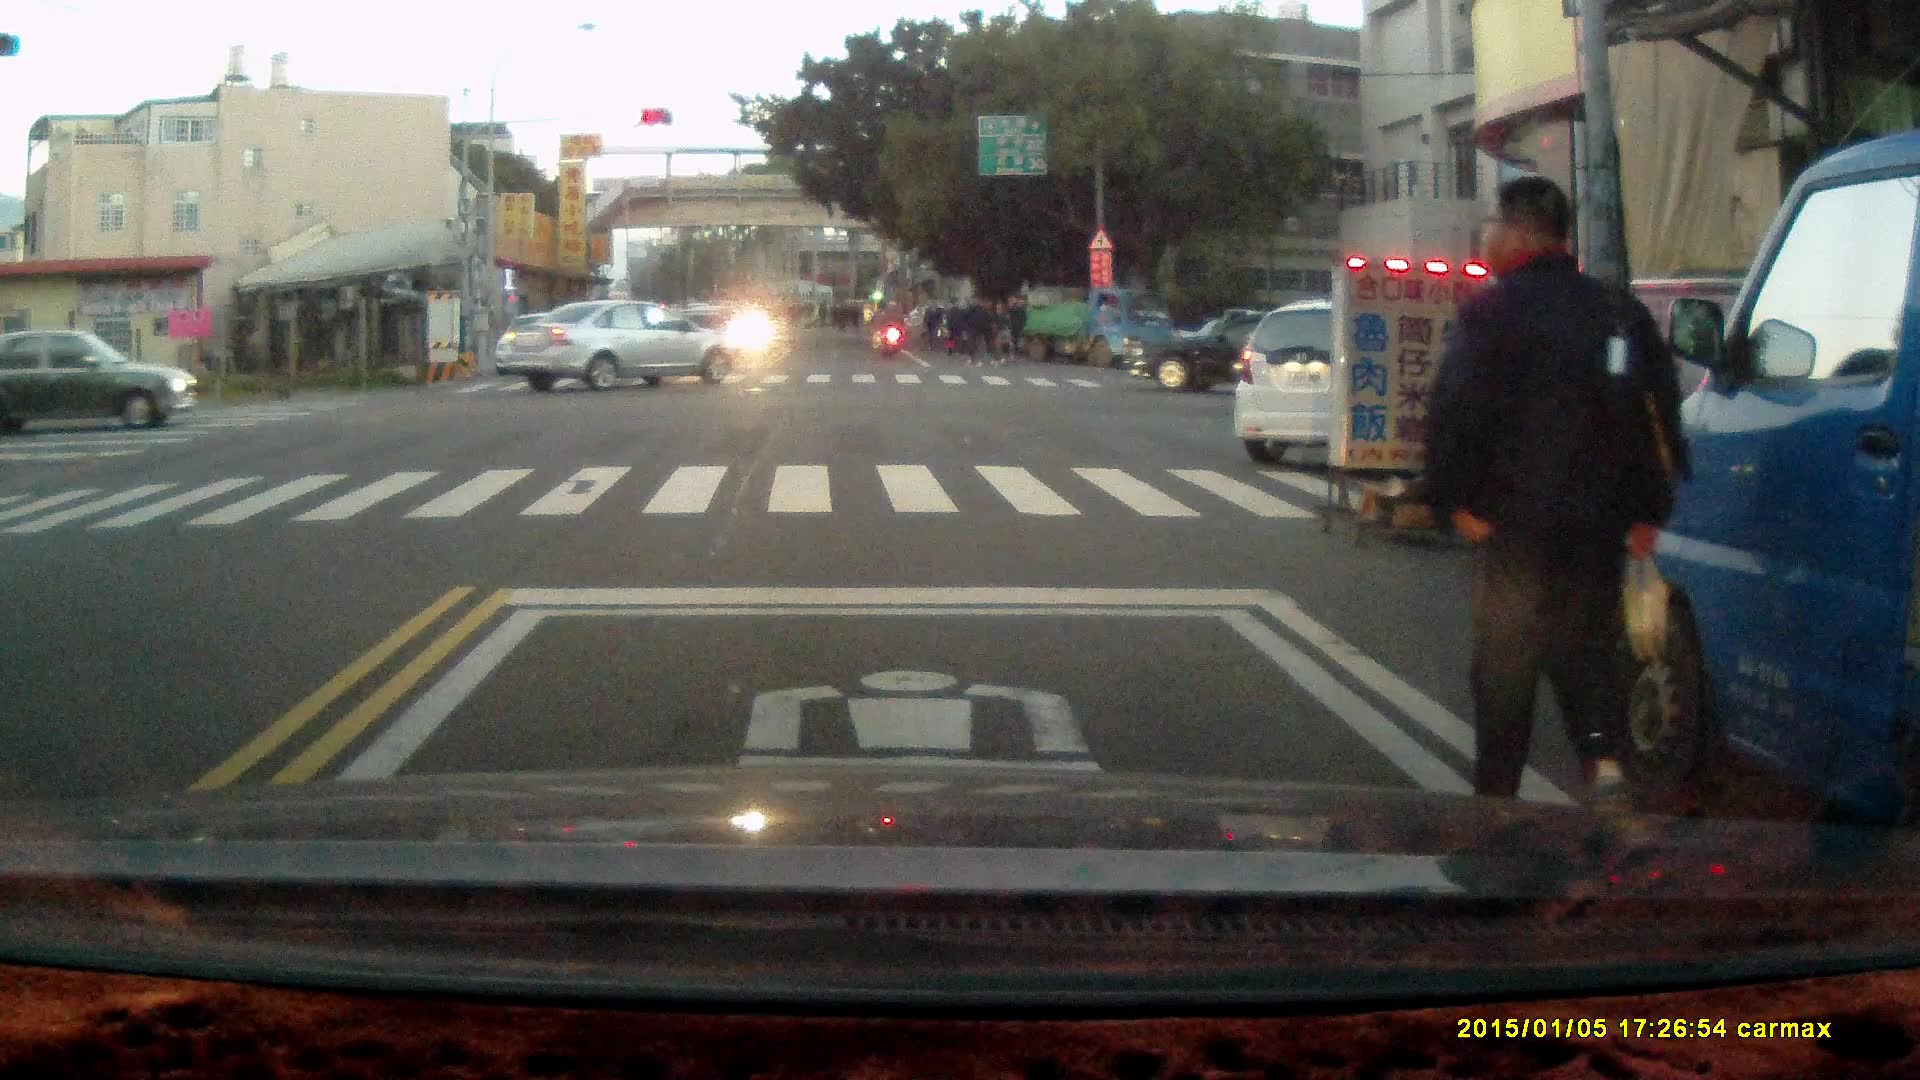pedestrian: (1421, 174, 1678, 843), (999, 292, 1028, 370), (960, 290, 989, 367)
rider: (875, 298, 904, 360)
vehicle: (1598, 132, 1920, 846), (1233, 296, 1533, 459), (506, 299, 747, 396), (1, 328, 204, 437), (1135, 305, 1346, 393), (1002, 284, 1179, 367)
